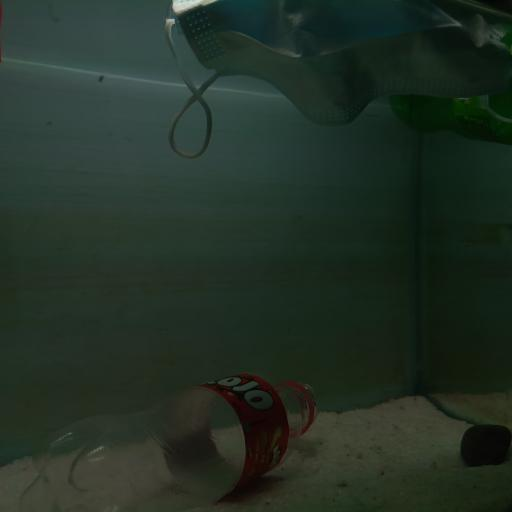plastic_bag: (163, 2, 512, 180)
plastic_bottle: (20, 372, 318, 512), (388, 89, 512, 145)
